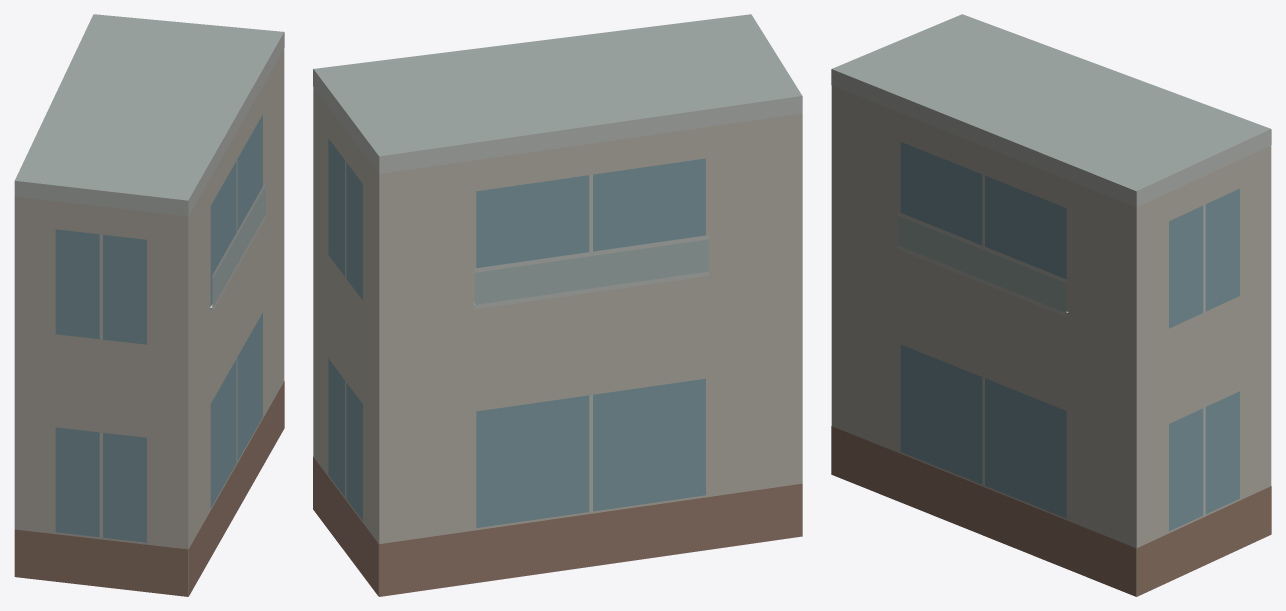
The model's file is survey-upis-32477102.glb.
The picture shows the model from 3 angles, left to right: view 1: azimuth 30°, elevation 25°; view 2: azimuth 150°, elevation 25°; view 3: azimuth 270°, elevation 25°; orthographic projection. The views are drawn at different scales.
Parts seen in each view (by area): view 1: survey-upis-32477102.tmp; view 2: survey-upis-32477102.tmp; view 3: survey-upis-32477102.tmp.
Part boxes in pixels (x1,y1,x2,y2): survey-upis-32477102.tmp: (14, 14, 284, 596); survey-upis-32477102.tmp: (313, 14, 802, 596); survey-upis-32477102.tmp: (831, 14, 1271, 596).
Size of the model in its own units: 5.73 by 6.1 by 6.01.
